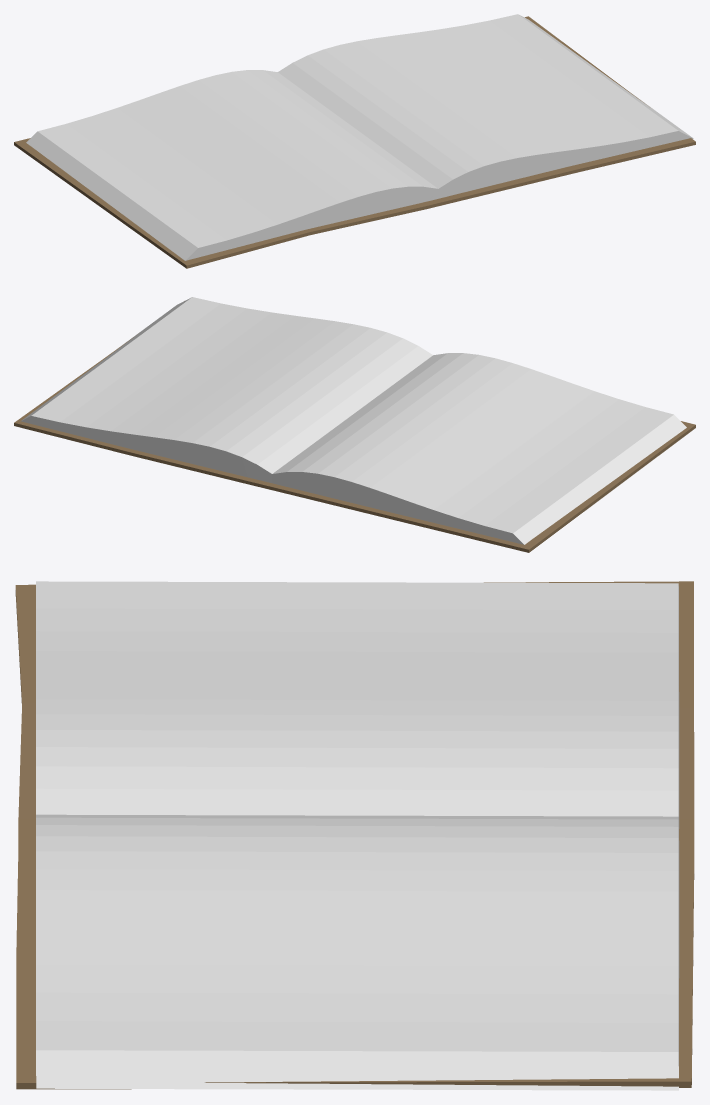
Rendered from magazine.fbx.
The picture shows the model from 3 angles, top to bottom: view 1: azimuth 30°, elevation 25°; view 2: azimuth 150°, elevation 25°; view 3: azimuth 270°, elevation 25°; orthographic projection. The views are drawn at different scales.
Parts seen in each view (by area): view 1: BezierCurve, Cube; view 2: BezierCurve, Cube; view 3: BezierCurve, Cube.
Boxes of the visible parts, x1,y1,x2,y2 form: BezierCurve: [26, 14, 693, 260]; Cube: [14, 16, 695, 268]; BezierCurve: [21, 297, 686, 544]; Cube: [14, 334, 695, 552]; BezierCurve: [36, 581, 679, 1090]; Cube: [15, 581, 694, 1089].
Size of the model in its own units: 434 by 21.01 by 247.
